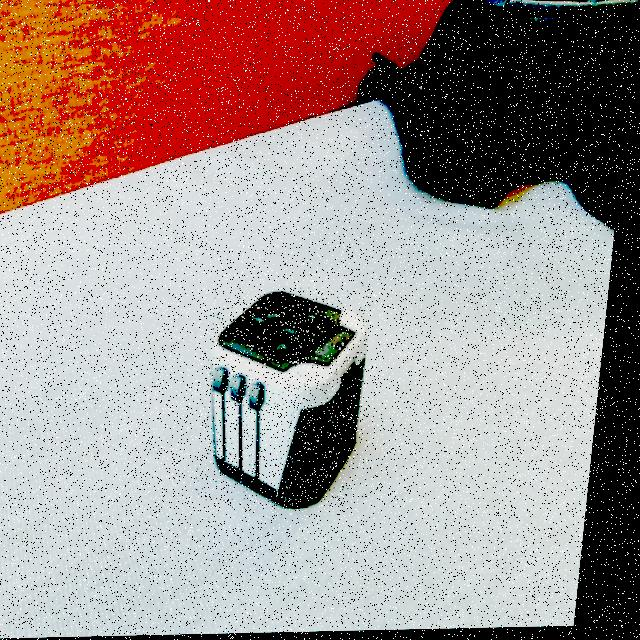adapter: (204, 287, 381, 512)
